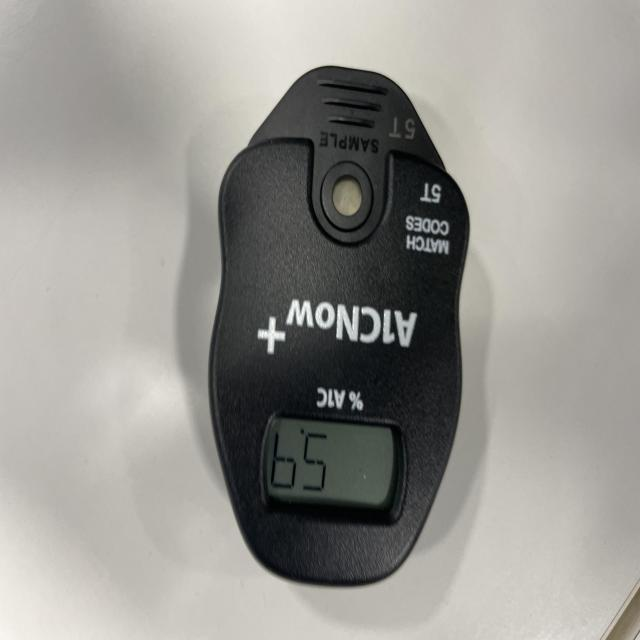hba1c: (207, 66, 471, 589)
